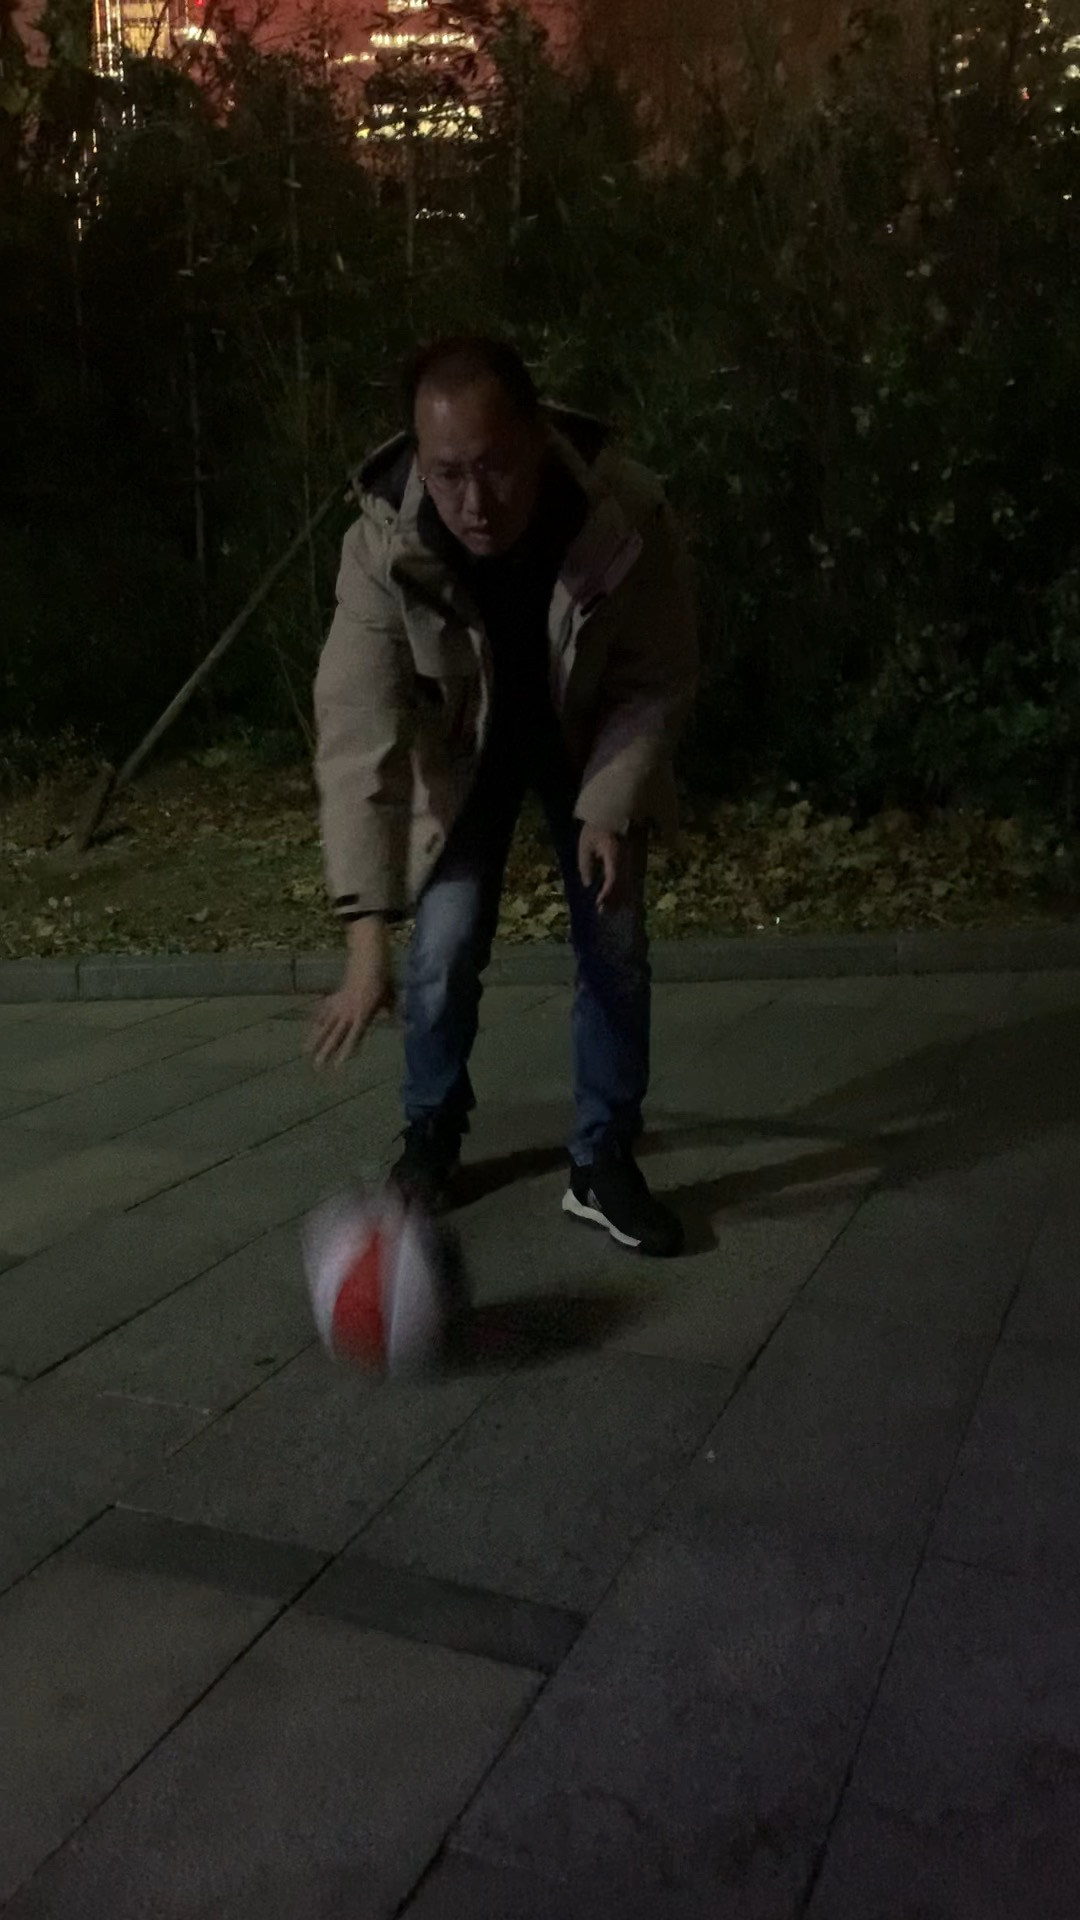ball: (311, 1208, 485, 1385)
